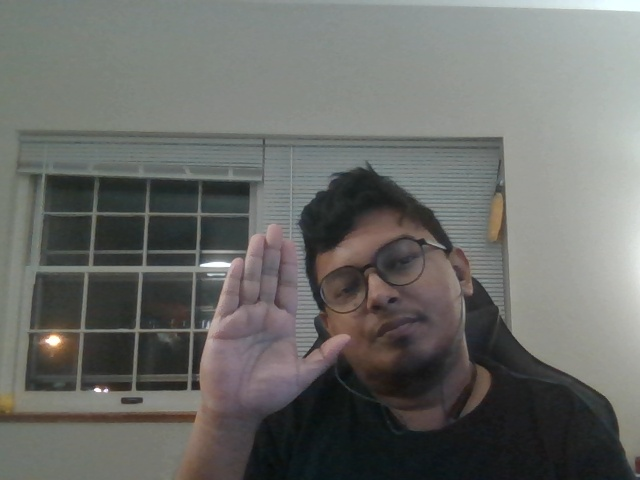hello: (198, 211, 357, 444)
